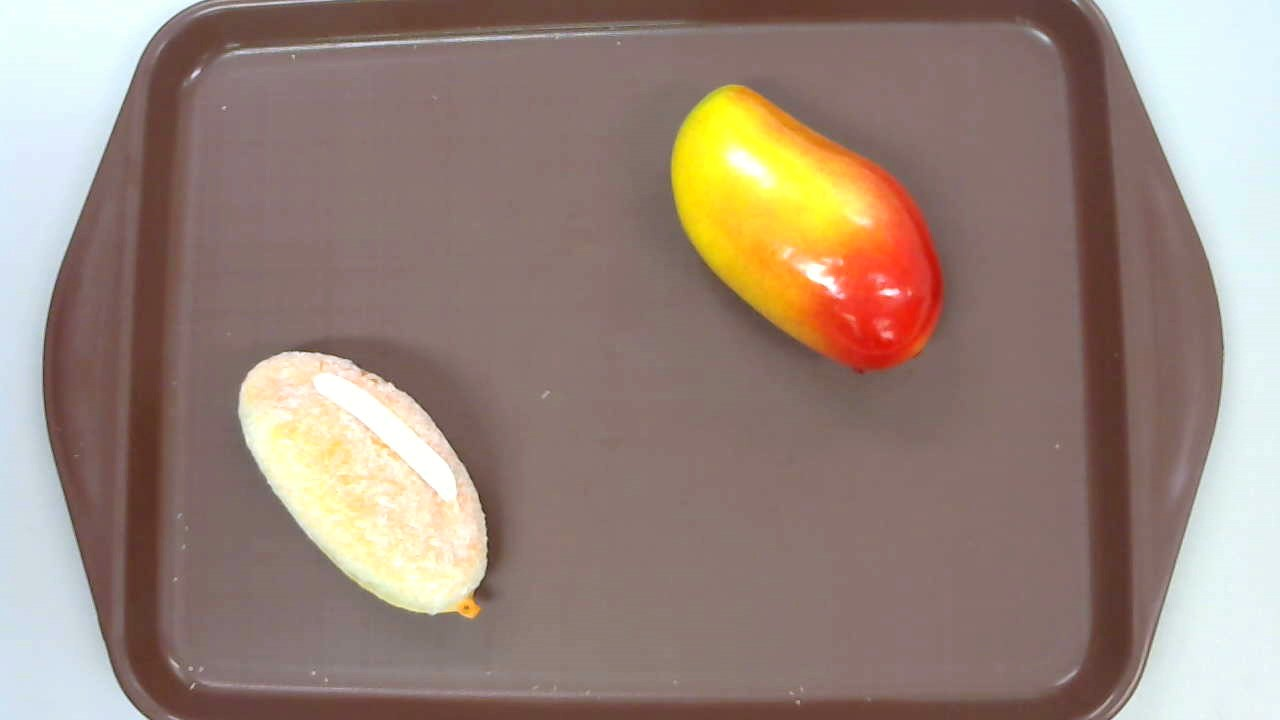coconut: (238, 349, 488, 619)
red mango: (671, 84, 945, 374)
